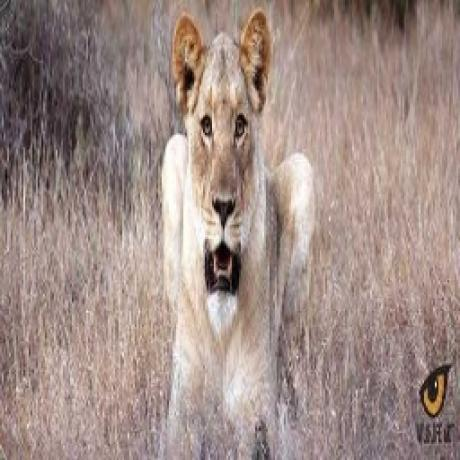Lion: (159, 12, 319, 423)
